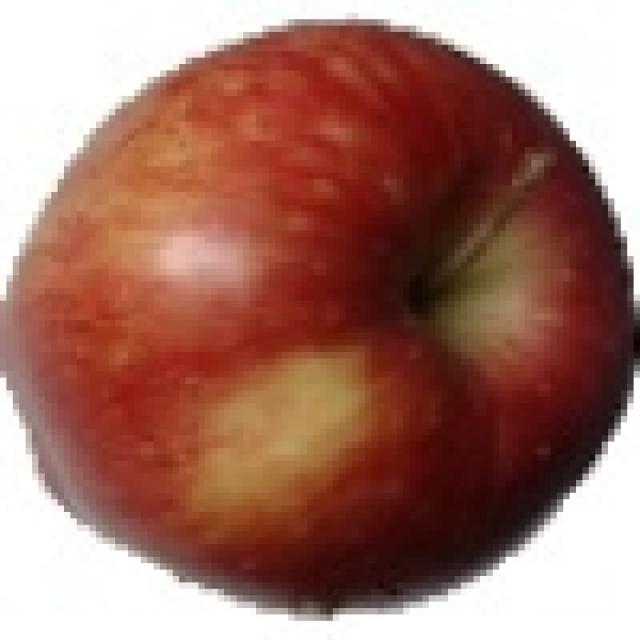apple: (7, 18, 636, 618)
